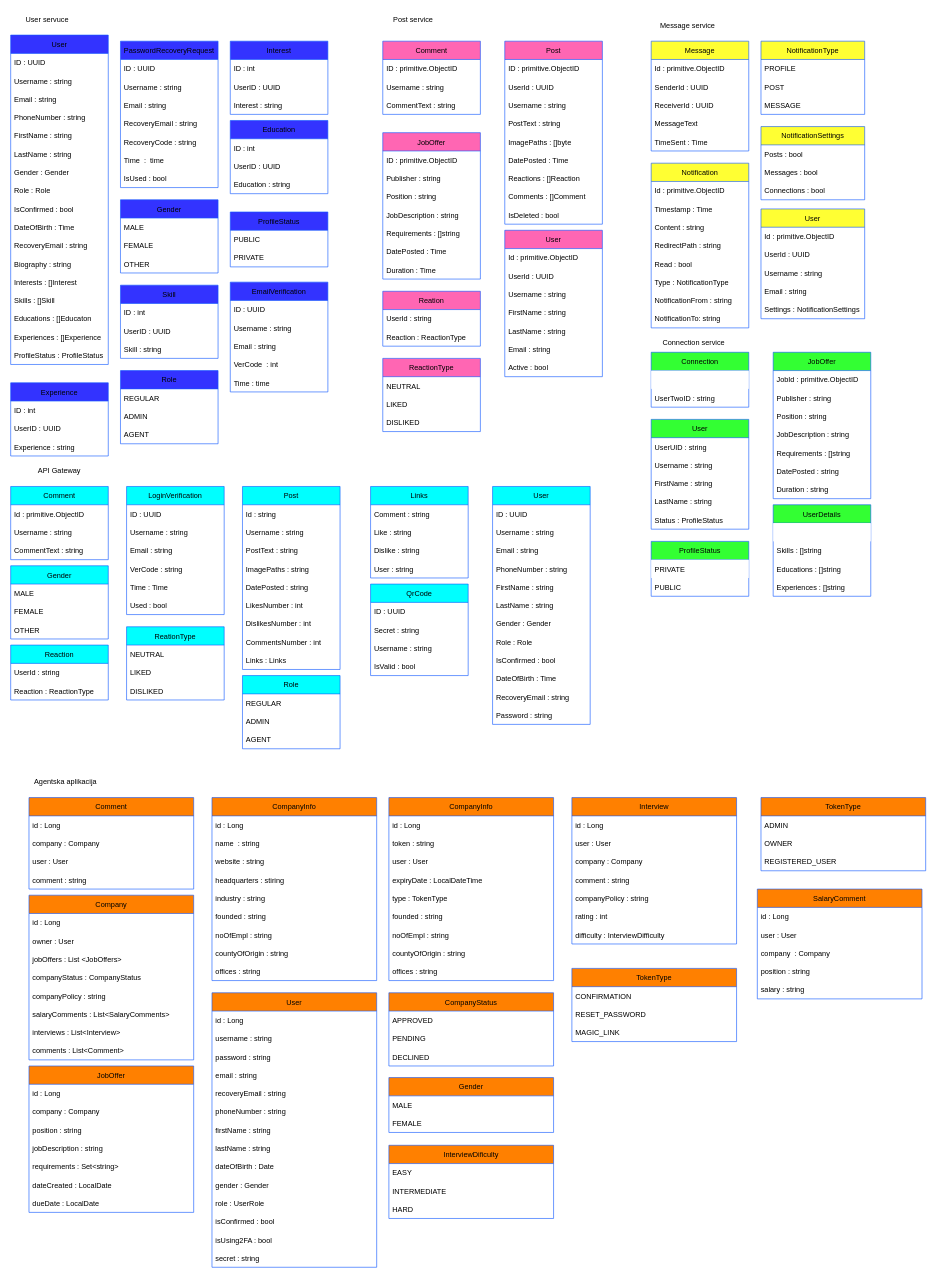
This 936x1278 diagram has some shape labels left out. Here are the shapes that lost their labels. From the top down, the centre of each, then its label:
At (x=699, y=379): "UserOneUID : string".
At (x=821, y=532): "Interests : []string".
